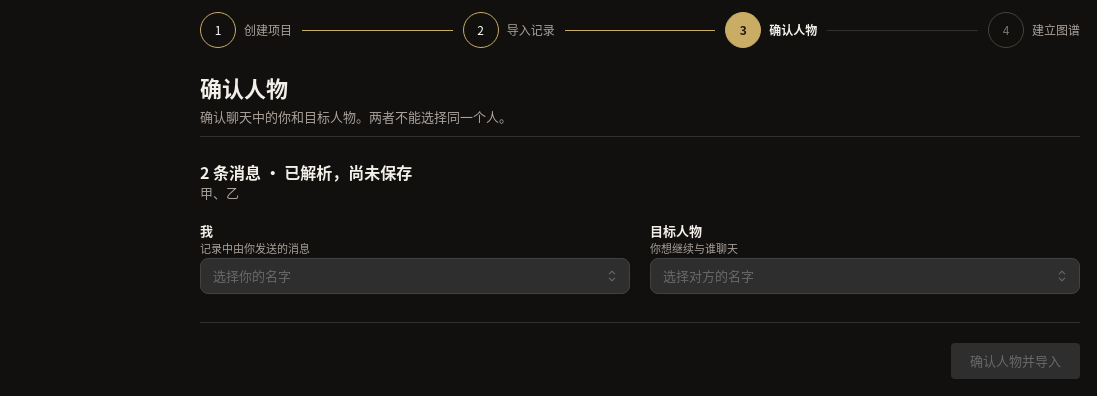
Scenario: 刷新后恢复已上传预览，正式确认后只报告保存结果
Click the dropdown labelled "我" at [415, 276], box [200,258,630,294]
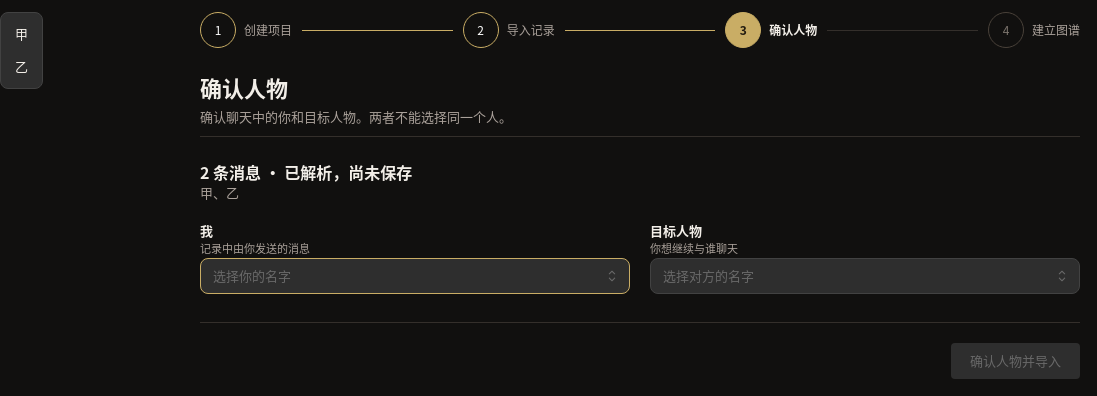
Click the option "甲" at [22, 34], box [15,24,28,43]
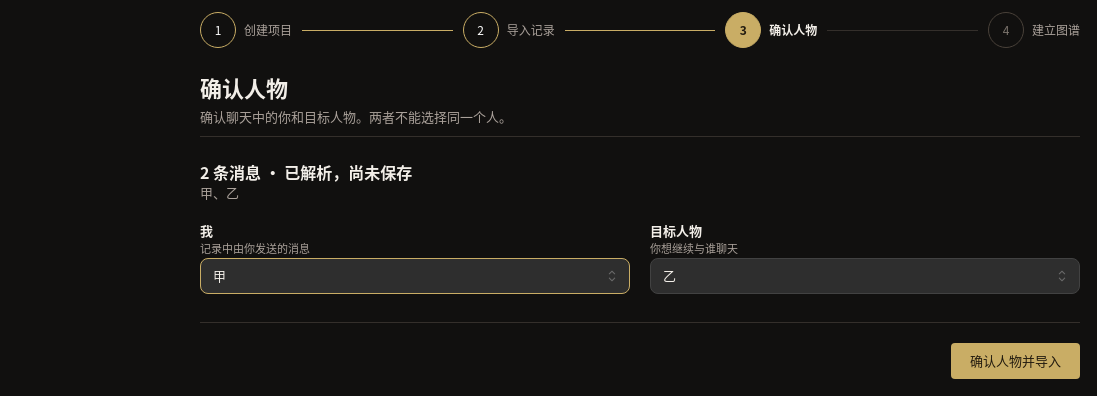
Click the dropdown labelled "目标人物" at [865, 276], box [650,258,1080,294]
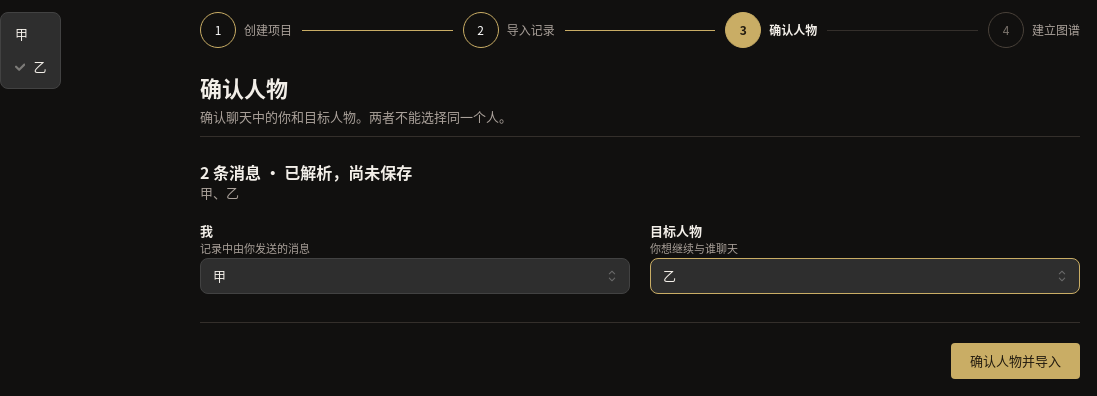
Click the option "乙" at [31, 67], box [15,57,46,76]
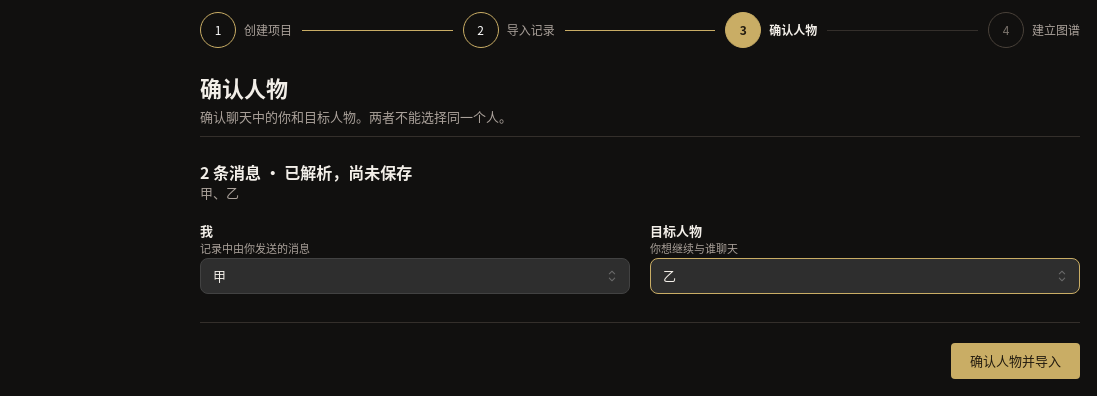
Click the button "确认人物并导入" at [1016, 361], box [951,343,1080,379]
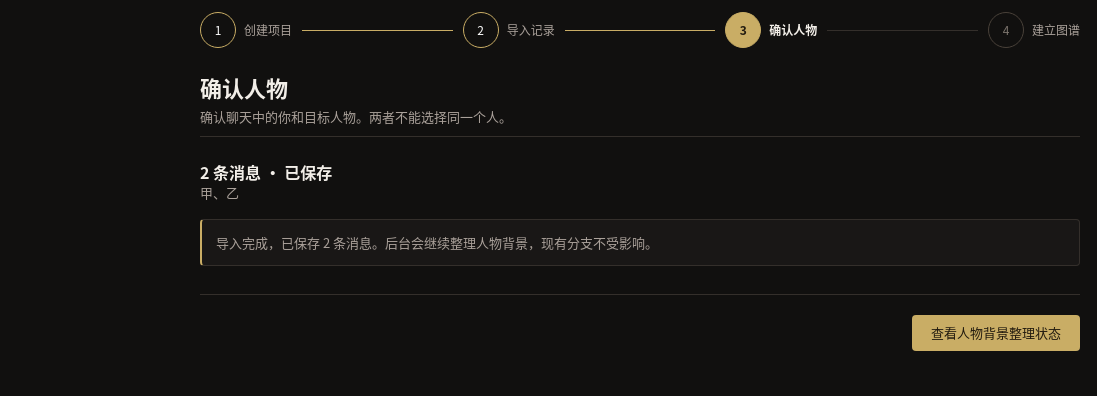
Check: the text "导入完成，已保存 2 条消息。后台会继续整理人物背景，现有分支不受影响。" is shown, box [216,232,658,252]
Check: the button "确认人物并导入" is gone
